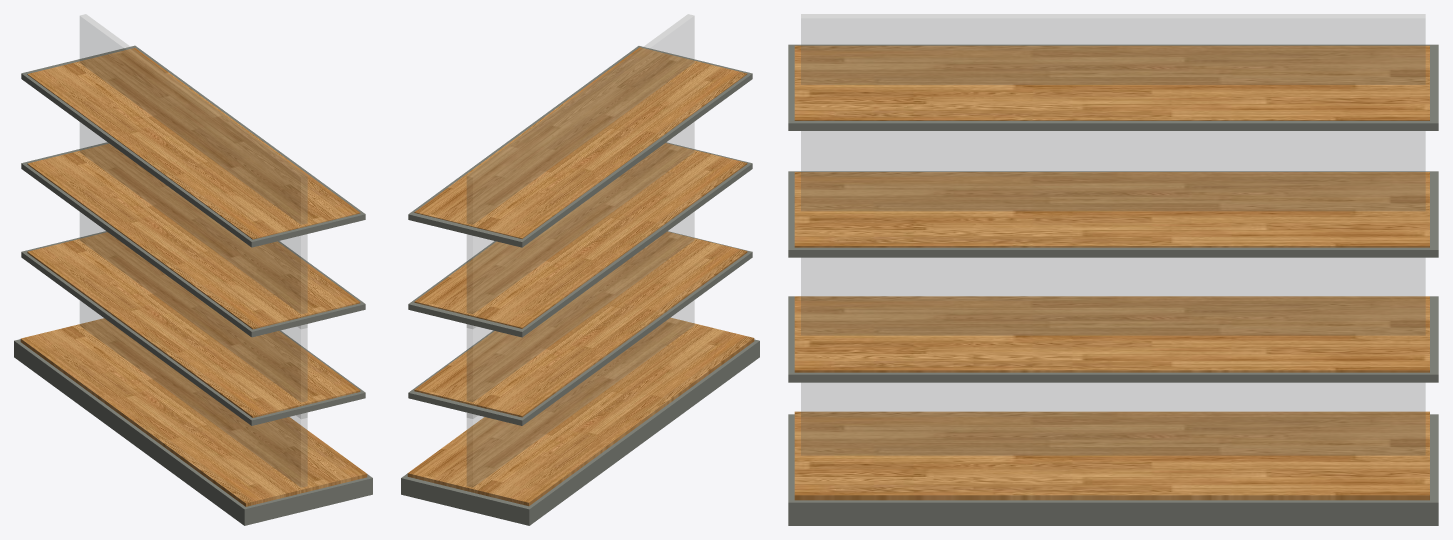
File: gondola_optimised.glb
3 views of the same model, side by side, from view 1: azimuth 30°, elevation 25°; view 2: azimuth 150°, elevation 25°; view 3: azimuth 270°, elevation 25° (orthographic). The views are drawn at different scales.
Parts seen in each view (by area): view 1: Object_22, Object_4, Object_16, Object_20, Object_10, Object_14, Object_8, Object_6, Object_24, Object_18, Object_12; view 2: Object_22, Object_4, Object_16, Object_20, Object_10, Object_14, Object_6, Object_8, Object_24, Object_18, Object_12; view 3: Object_20, Object_4, Object_10, Object_14, Object_16, Object_22, Object_8, Object_6, Object_18, Object_24, Object_12.
Boxes of the visible parts, x1,y1,x2,y2 form: Object_22: (27,48,360,239); Object_4: (20,318,367,506); Object_16: (27,143,360,329); Object_20: (80,14,307,328); Object_10: (27,232,360,417); Object_14: (80,212,307,418); Object_8: (80,301,307,487); Object_6: (14,339,372,525); Object_24: (21,45,365,247); Object_18: (21,142,365,337); Object_12: (21,231,365,425); Object_22: (414,47,747,238); Object_4: (407,317,754,506); Object_16: (414,143,747,328); Object_20: (467,14,694,328); Object_10: (414,231,747,417); Object_14: (467,212,694,418); Object_6: (401,339,759,525); Object_8: (467,300,694,487); Object_24: (408,46,752,247); Object_18: (408,142,752,337); Object_12: (408,231,752,425); Object_20: (801,14,1425,210); Object_4: (794,411,1429,500); Object_10: (794,296,1429,372); Object_14: (801,258,1425,335); Object_16: (794,172,1429,247); Object_22: (794,45,1429,120); Object_8: (801,383,1425,455); Object_6: (788,414,1438,525); Object_18: (788,171,1438,257); Object_24: (788,44,1438,130); Object_12: (788,296,1438,382).
Size of the model in its own units: 0.6222 by 1.53 by 1.93.
3 materials, 1 textured.
